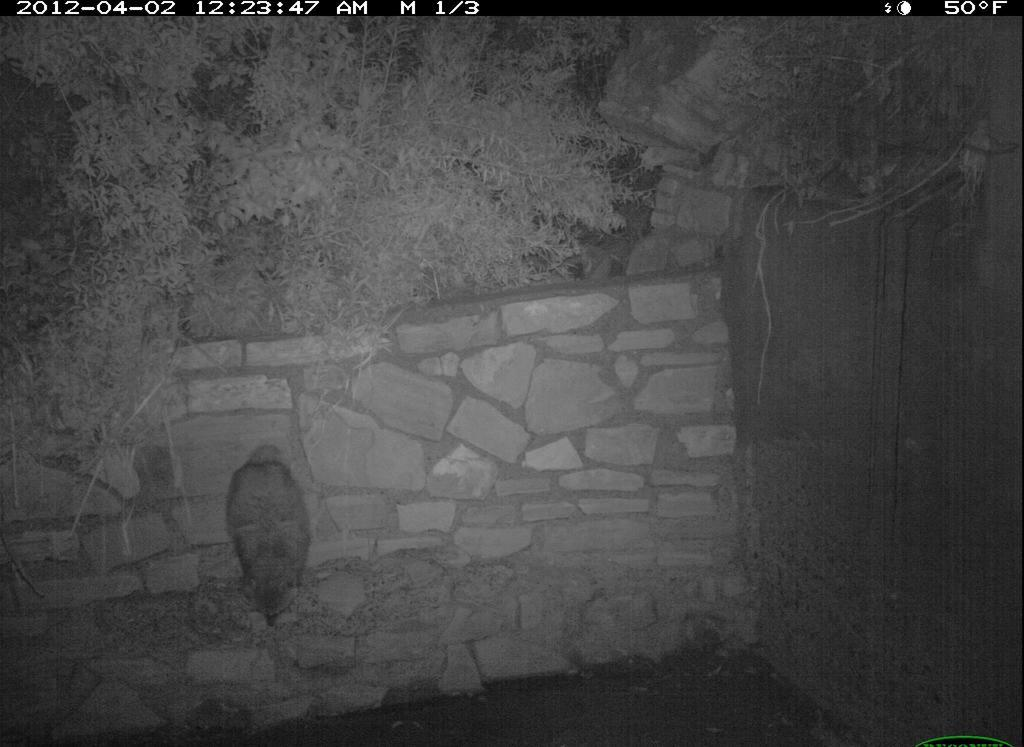raccoon: (216, 428, 319, 633)
